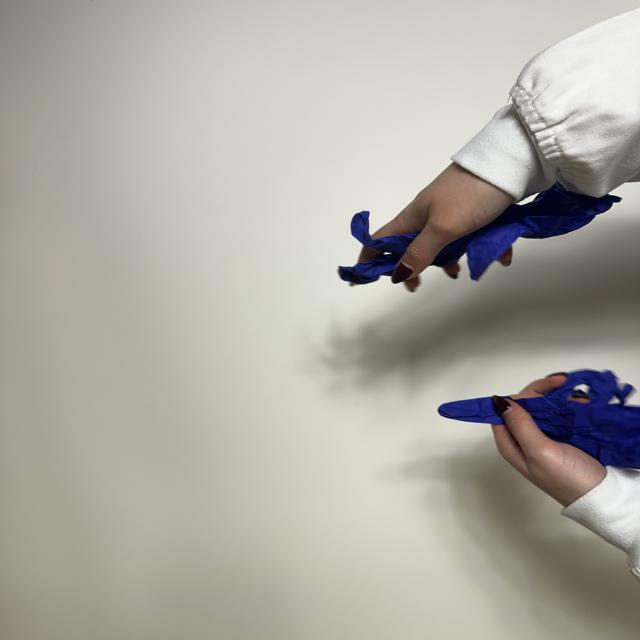glove_not_fitted: (339, 167, 620, 288), (439, 370, 640, 507)
